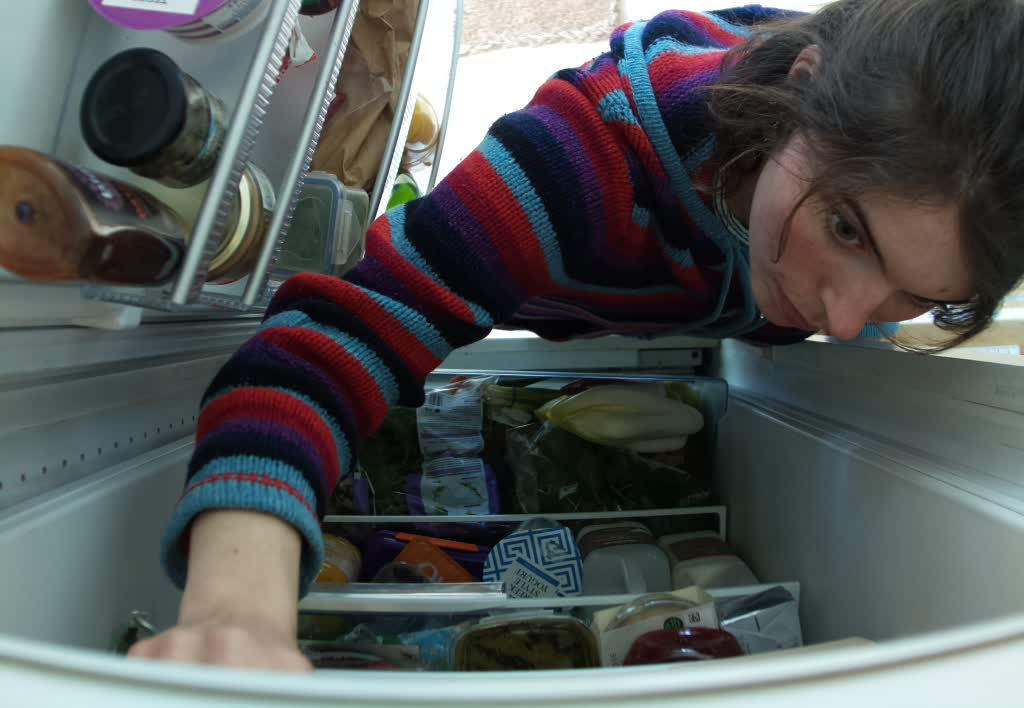salad: (529, 387, 710, 461)
